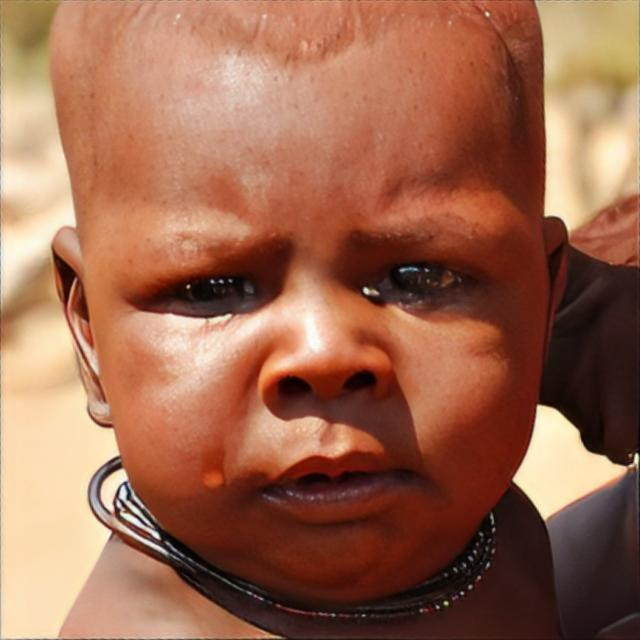sad: (48, 0, 545, 607)
